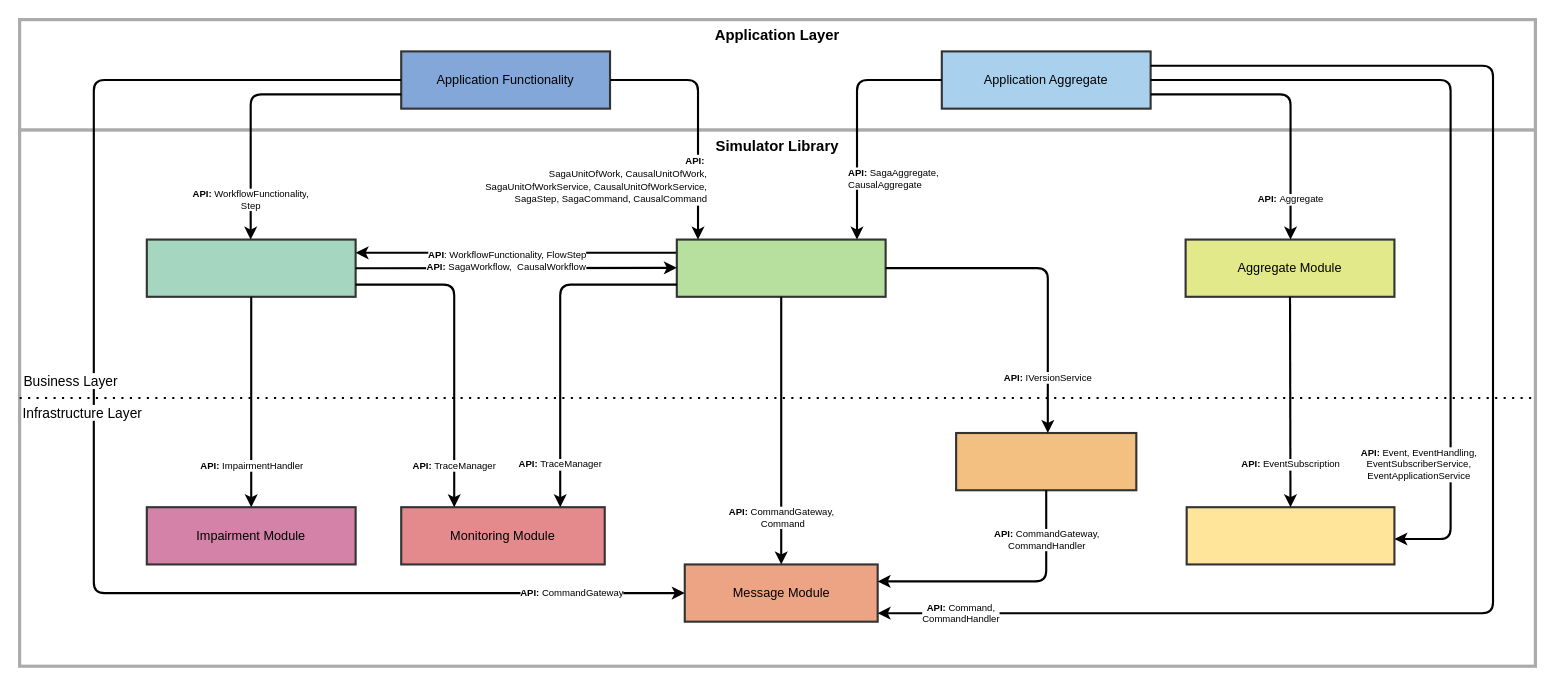
Image size: 1556x686. Some labels were removed from this diagram. The shapes that lost their labels are listed below. From the top down, each one's centre as x and y in pixels, then its label:
At point 250,267: "Coordination Module".
At point 780,267: "Transaction Module".
At point 1046,461: "Version Module".
At point 1290,535: "Notification Module".
